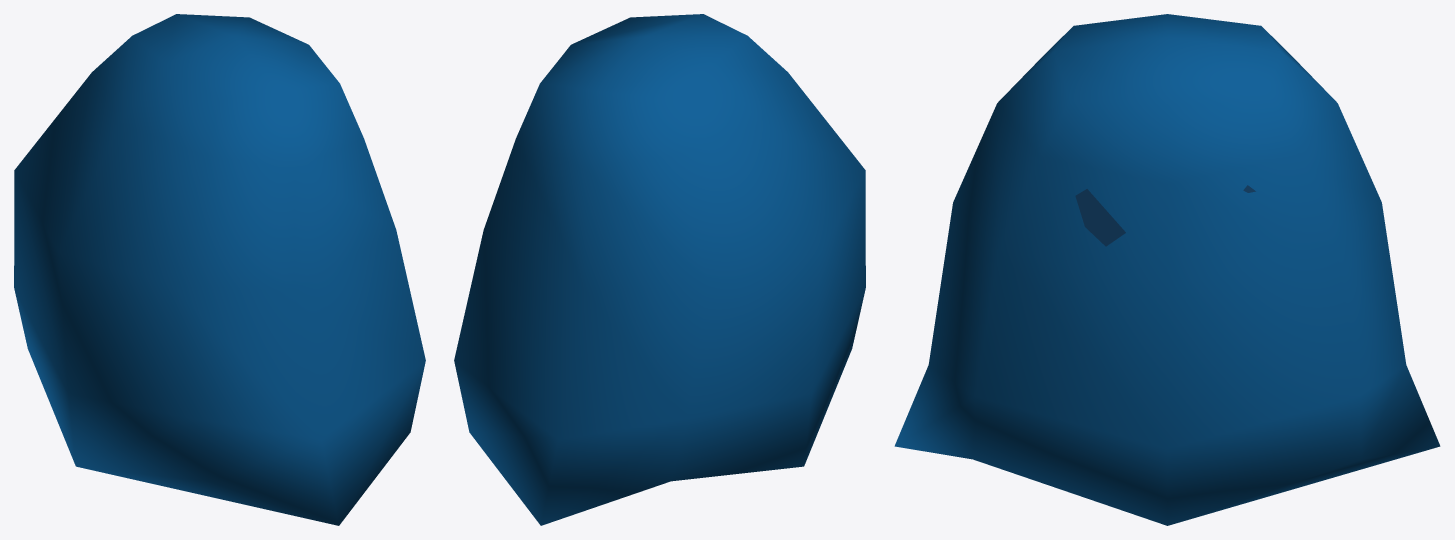
The model's file is soul3.fbx.
3 views of the same model, side by side, from view 1: azimuth 30°, elevation 25°; view 2: azimuth 150°, elevation 25°; view 3: azimuth 270°, elevation 25° (orthographic). The views are drawn at different scales.
Parts seen in each view (by area): view 1: Cube.003; view 2: Cube.003; view 3: Cube.003.
Part boxes in pixels (bbox=[...]): Cube.003: bbox=[14, 14, 425, 525]; Cube.003: bbox=[454, 14, 865, 525]; Cube.003: bbox=[894, 14, 1440, 525].
Size of the model in its own units: 1.29 by 1.62 by 1.82.
